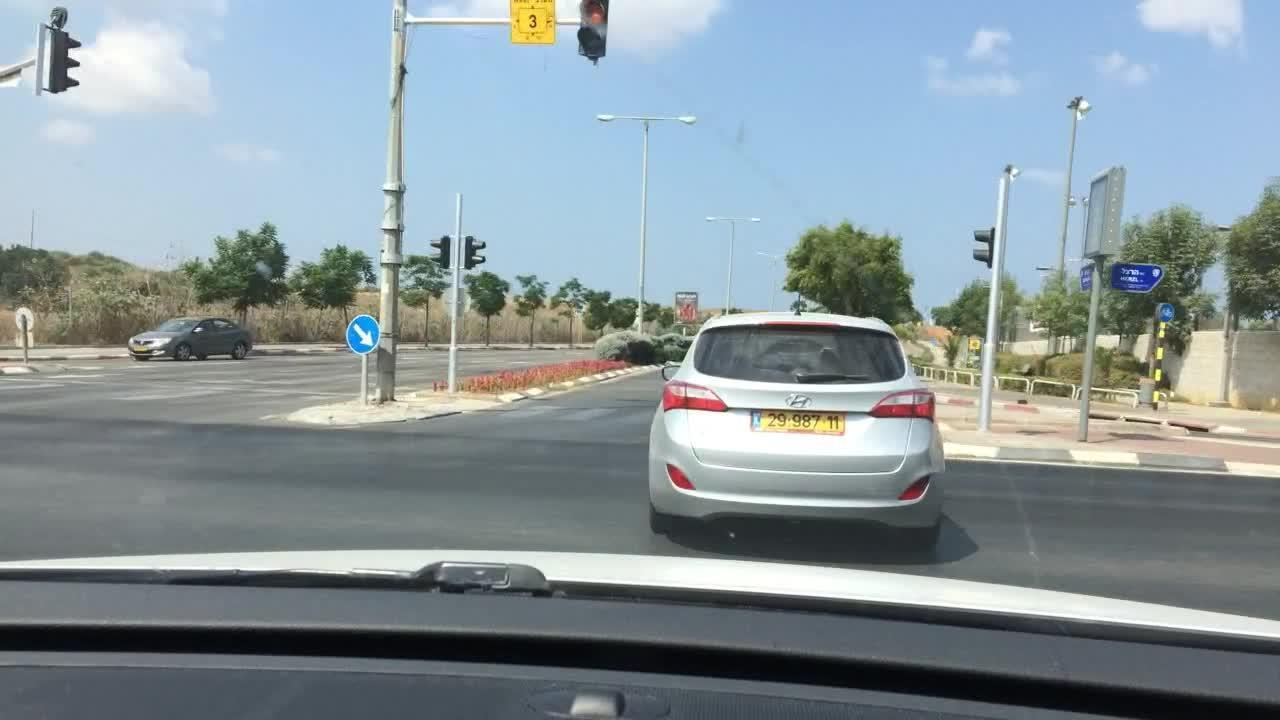Hyundai: (779, 390, 818, 417)
